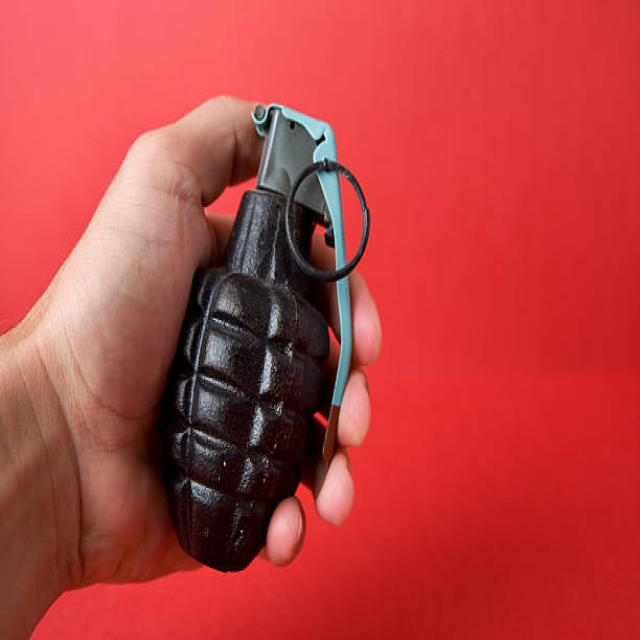grenade: (152, 96, 371, 581)
